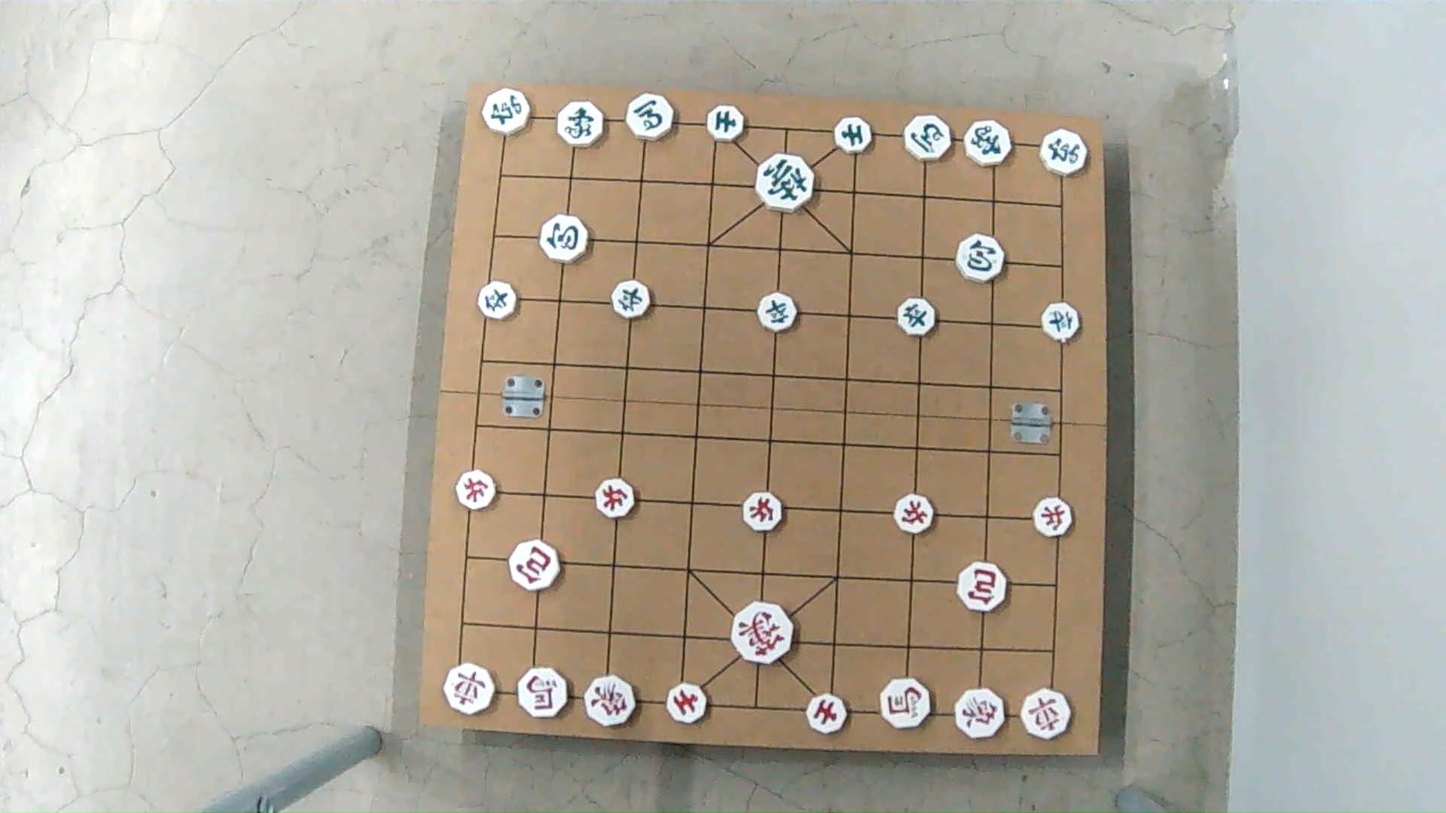cha_green: (1039, 129, 1088, 176), (480, 90, 531, 133)
cha_red: (444, 665, 499, 714), (1018, 692, 1072, 739)
jol_green: (477, 284, 523, 317), (758, 297, 801, 332), (611, 285, 653, 319), (898, 301, 938, 336), (1042, 303, 1082, 338)
jol_red: (739, 493, 785, 529), (456, 472, 502, 507), (891, 495, 935, 531), (595, 479, 639, 515), (1030, 501, 1075, 536)
ma_green: (623, 95, 675, 139), (901, 117, 953, 160)
ma_red: (879, 682, 933, 730), (514, 671, 569, 717)
po_green: (956, 234, 1008, 282), (539, 217, 591, 260)
po_red: (957, 565, 1011, 611), (508, 543, 560, 587)
sa_green: (704, 106, 746, 140), (832, 118, 873, 151)
sa_red: (664, 682, 709, 723), (804, 693, 849, 733)
sang_green: (555, 102, 607, 147), (965, 118, 1012, 167)
sang_red: (955, 687, 1006, 741), (583, 679, 638, 724)
wang_green: (756, 157, 816, 209)
wang_red: (734, 606, 797, 663)
